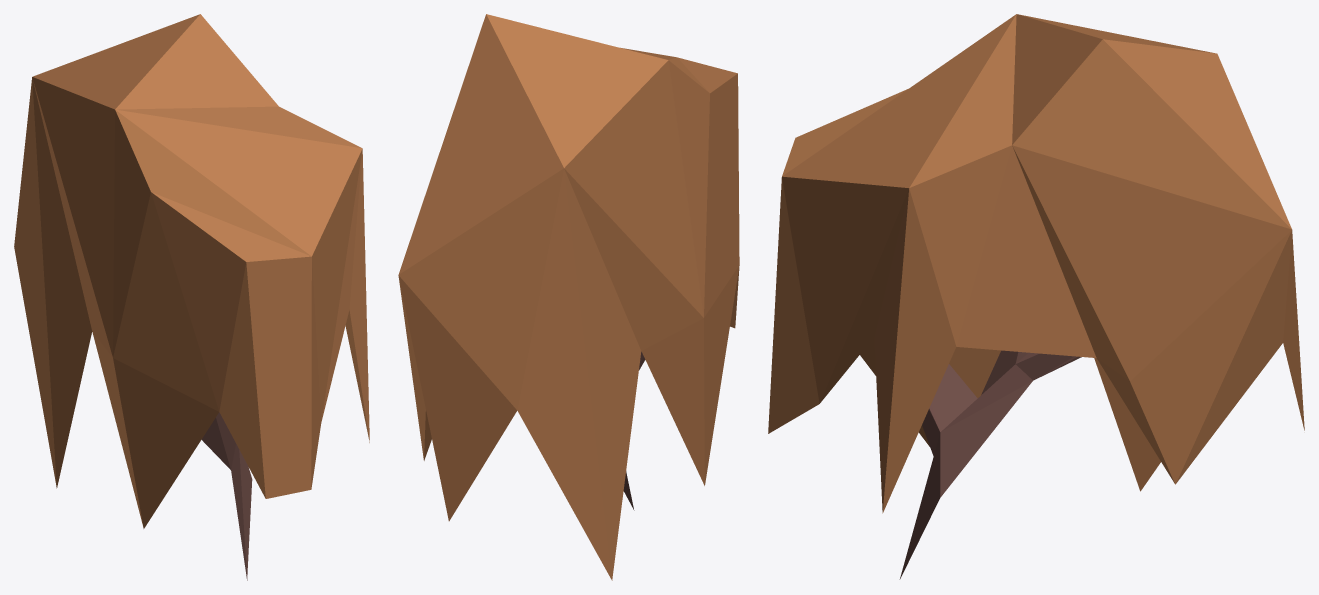
Rendered from Willow_Autumn_1.lod3.glb.
3 renders of one model, left to right at view 1: azimuth 30°, elevation 25°; view 2: azimuth 150°, elevation 25°; view 3: azimuth 270°, elevation 25°, orthographic. The views are drawn at different scales.
Parts seen in each view (by area): view 1: Willow_Autumn_1; view 2: Willow_Autumn_1; view 3: Willow_Autumn_1.
Boxes of the visible parts, box(x1,y1,x2,y2) form: Willow_Autumn_1: box(14, 14, 369, 580); Willow_Autumn_1: box(398, 14, 739, 580); Willow_Autumn_1: box(768, 14, 1304, 579).
Size of the model in its own units: 1.33 by 2.88 by 2.48.
